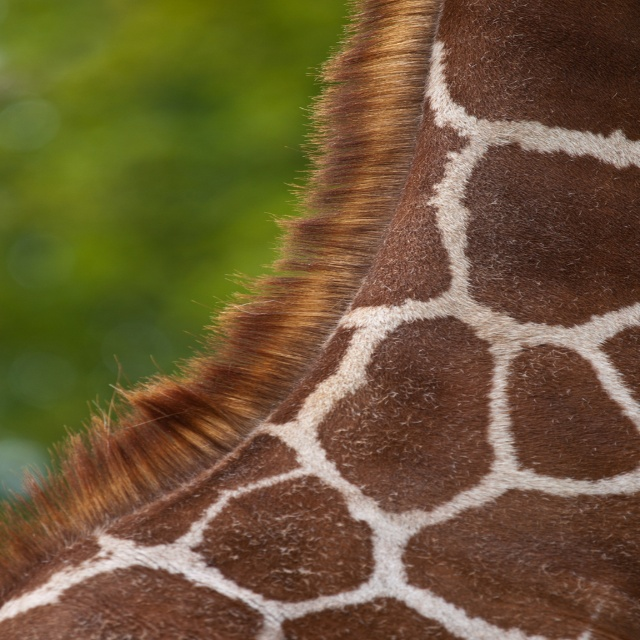Giraffe: (14, 0, 640, 640)
